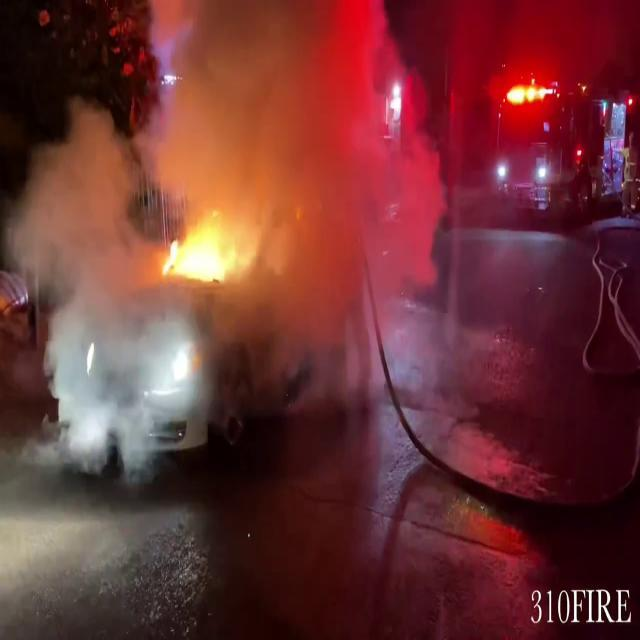Fire: (168, 191, 245, 297)
Smoke: (24, 0, 474, 532)
